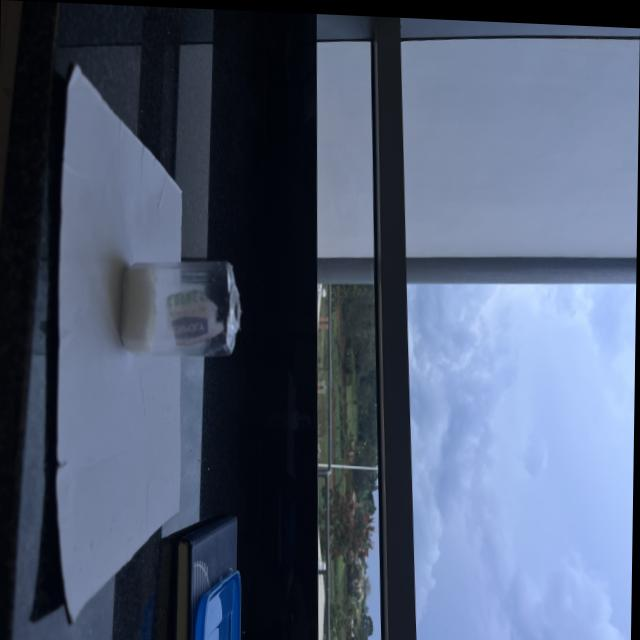salt: (120, 254, 159, 362)
